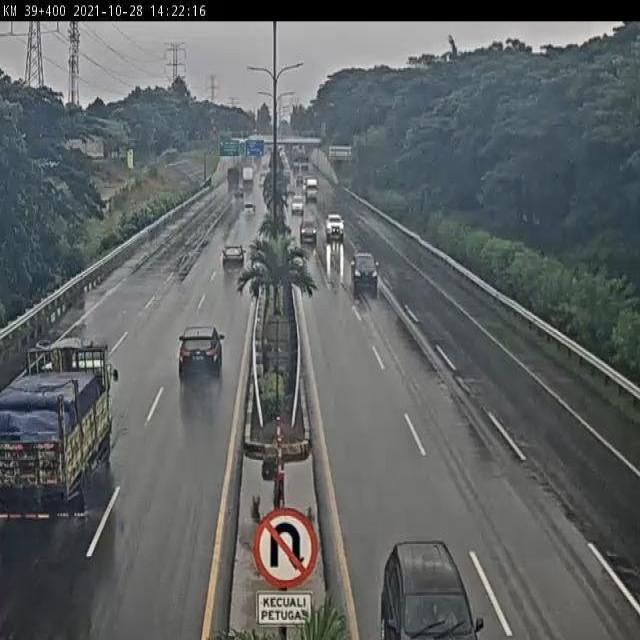car: (177, 325, 225, 384), (348, 250, 380, 294), (219, 241, 248, 272), (323, 211, 344, 237), (298, 218, 318, 245)
truck-l-: (0, 332, 118, 537)
